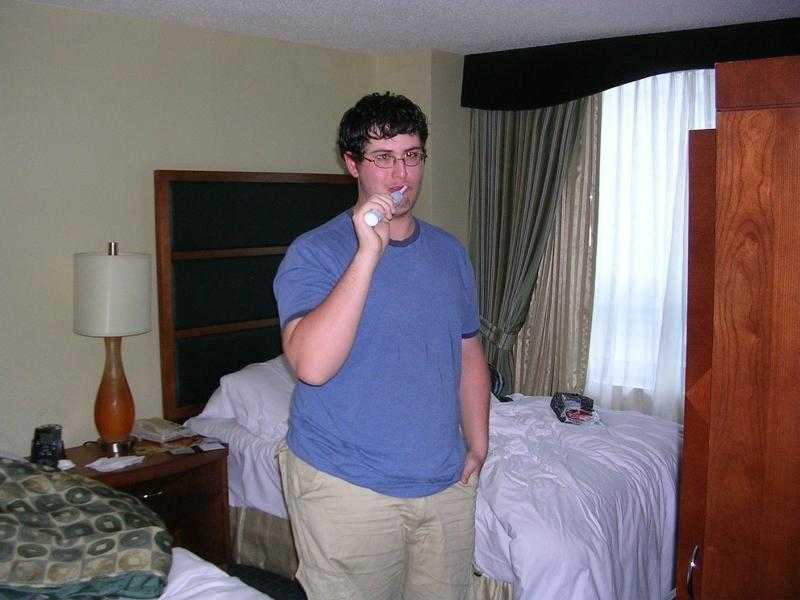person: (265, 87, 497, 598)
